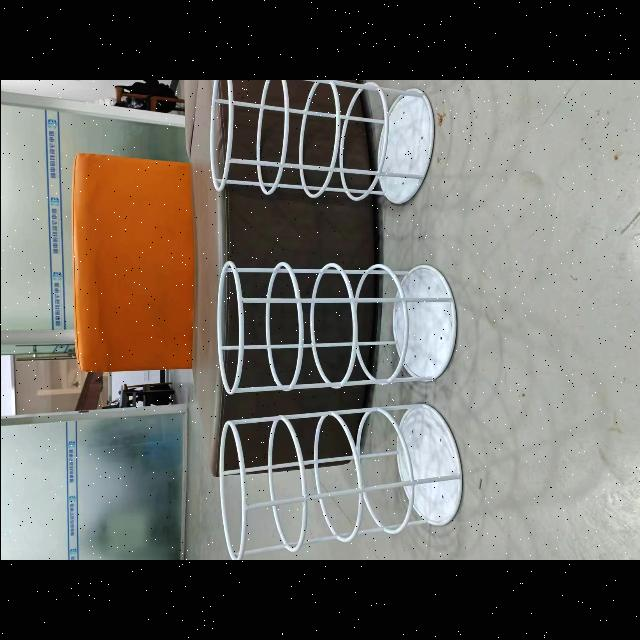S: (218, 404, 462, 560), (216, 262, 456, 394), (209, 80, 433, 205)
